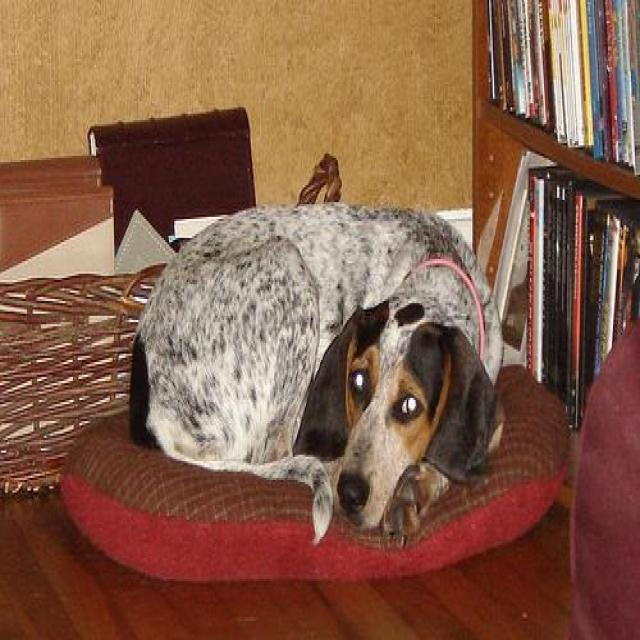relax: (124, 188, 505, 556)
